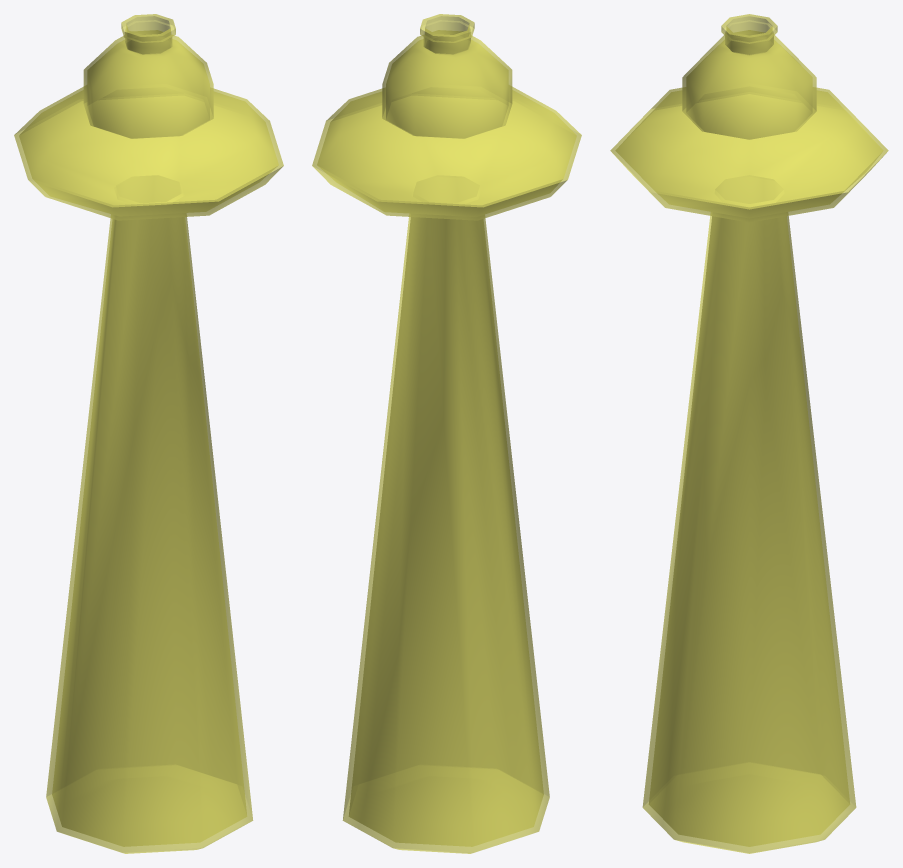
Rendered from PROP_013_Bottles_M.fbx.
The picture shows the model from 3 angles, left to right: view 1: azimuth 30°, elevation 25°; view 2: azimuth 150°, elevation 25°; view 3: azimuth 270°, elevation 25°; orthographic projection.
Visible parts, largest first — view 1: Cuadrado_012; view 2: Cuadrado_012; view 3: Cuadrado_012.
Boxes of the visible parts, x1,y1,x2,y2 form: Cuadrado_012: (14,14,283,853); Cuadrado_012: (312,14,581,853); Cuadrado_012: (610,14,888,853).
Bounding box in the file's own units: 0.2322 × 0.7248 × 0.2322.
